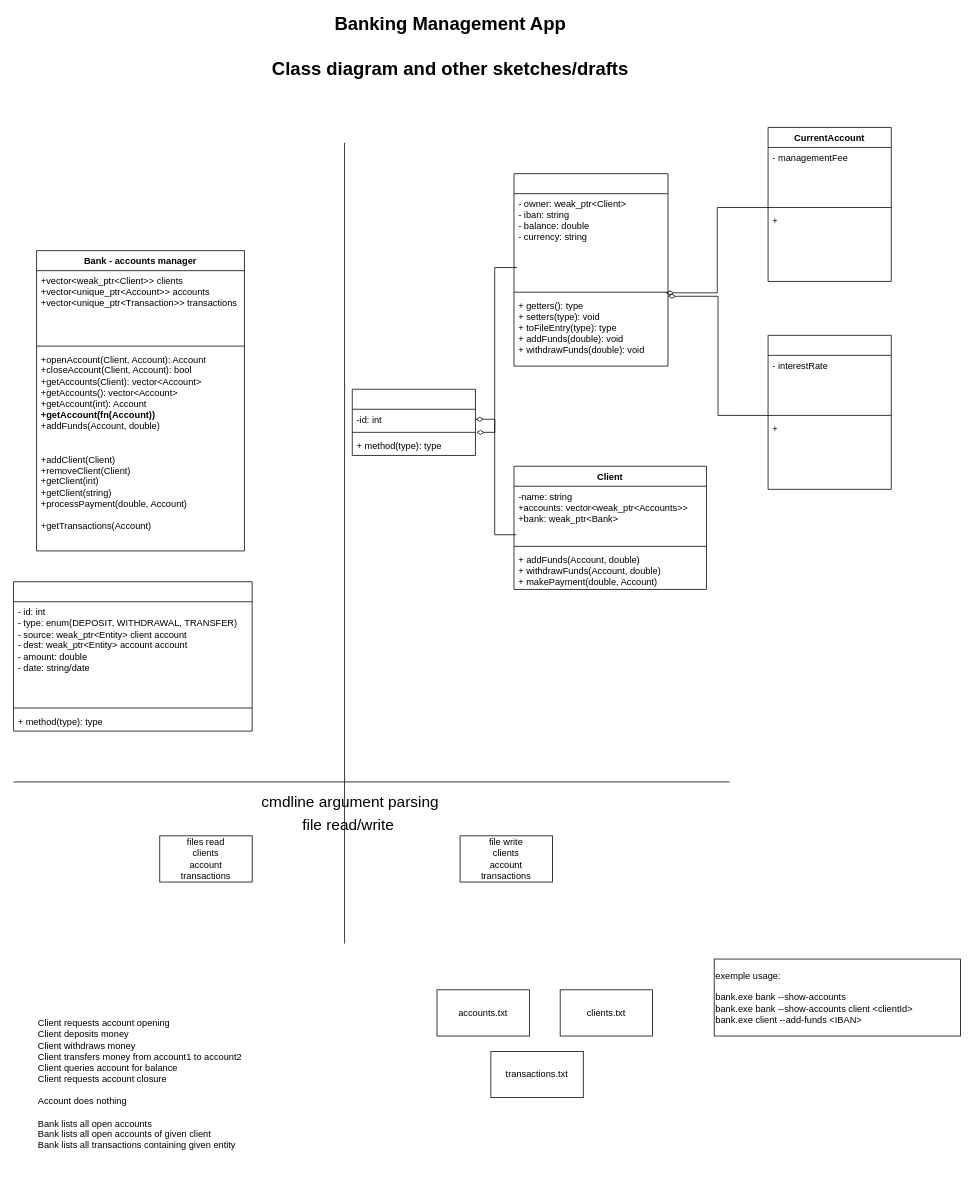
Image size: 974x1195. Some labels were removed from this diagram. Each missing label, with the box of its shape:
Account - abstract: (513, 173, 668, 366)
Entity - abstract: (352, 388, 475, 455)
SavingsAccount: (767, 335, 891, 489)
Transaction: (13, 581, 252, 731)
